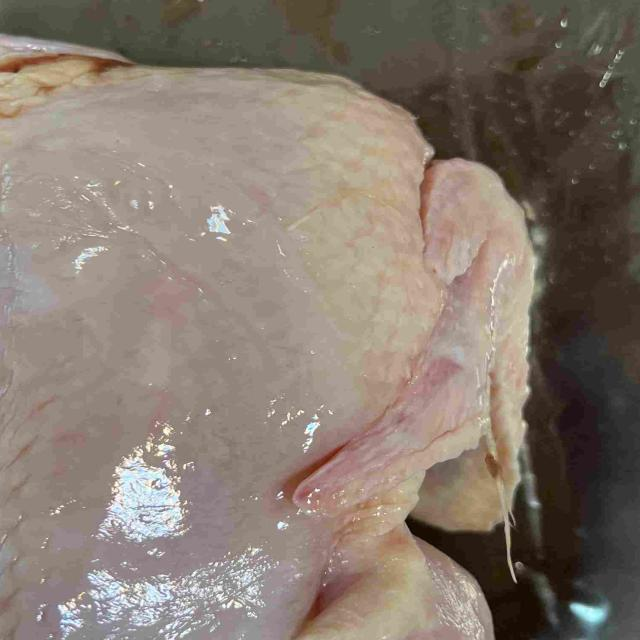breast: (0, 76, 427, 640)
wing: (302, 135, 541, 534)
